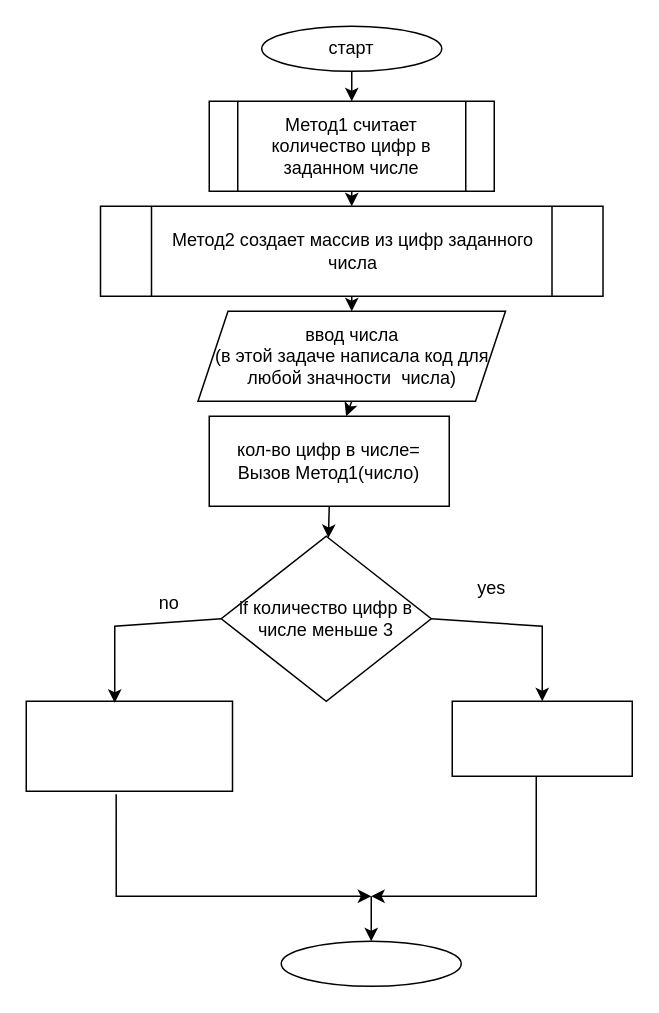
This 659x1013 diagram has some shape labels left out. Each missing label, with the centre of its shape:
"вызов Метод2 где выводится 3я цифра с позиции слева" goes at (x=128, y=745).
"нет третьей цифры" goes at (x=541, y=738).
"стор" goes at (x=370, y=963).
